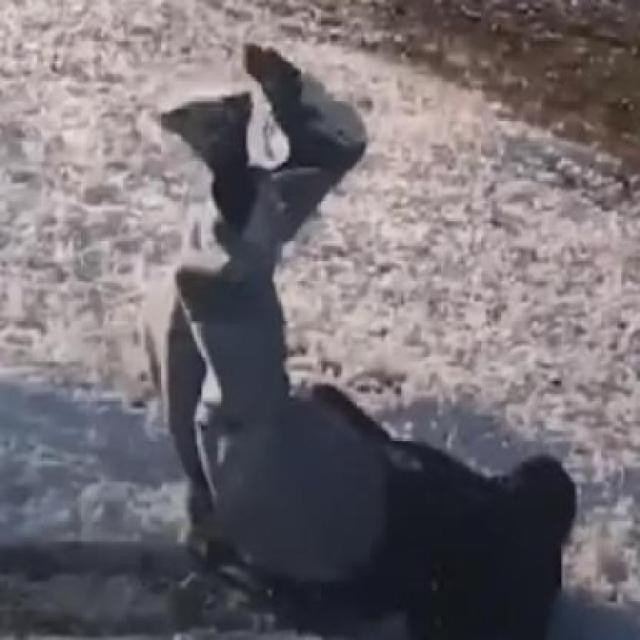fall: (156, 32, 573, 639)
